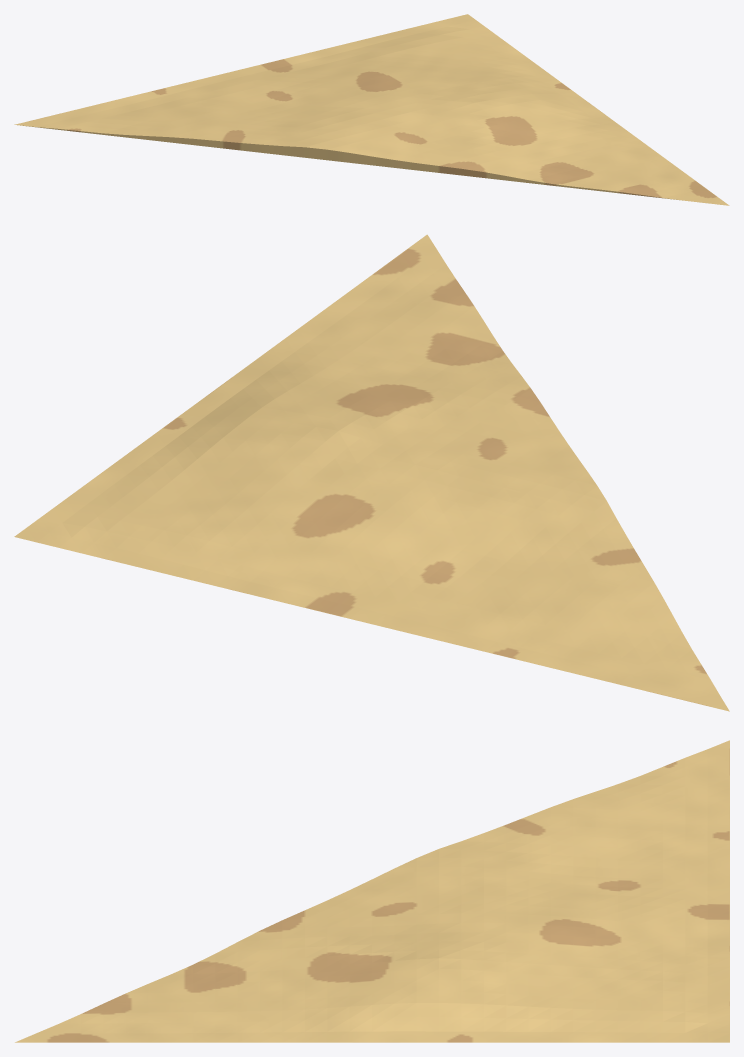
File: Desert_Flat_02_SE.obj
3 renders of one model, top to bottom at view 1: azimuth 30°, elevation 25°; view 2: azimuth 150°, elevation 25°; view 3: azimuth 270°, elevation 25°, orthographic. The views are drawn at different scales.
Bounding box in the file's own units: 10 × 0.2841 × 10.
Materials: 1 (1 with a texture image).
